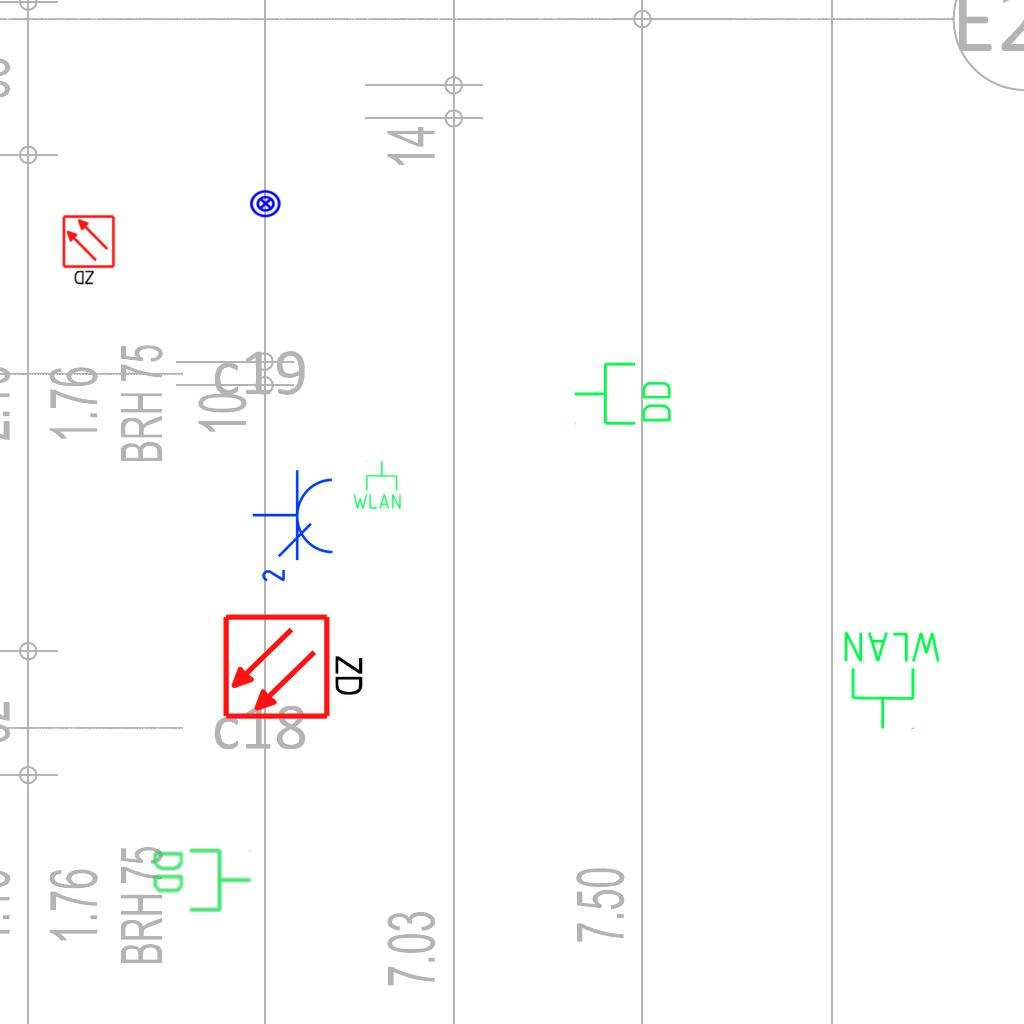Datenanschluss_zweifach: (572, 360, 675, 429), (150, 845, 253, 914)
Schukosteckdose_mehrfach: (251, 468, 339, 589)
Taster_beleuchtet: (249, 187, 282, 220)
WLAN: (840, 628, 945, 732), (351, 459, 403, 511)
ZD_Melder_in_Zwischendecke_mit_Revisionsoeffnung_mind_40_x_40_cm: (221, 608, 370, 722), (61, 214, 118, 288)
